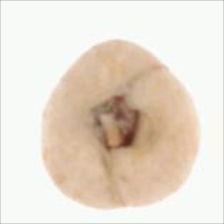L3: (90, 92, 148, 158)
L4: (41, 39, 200, 209)
